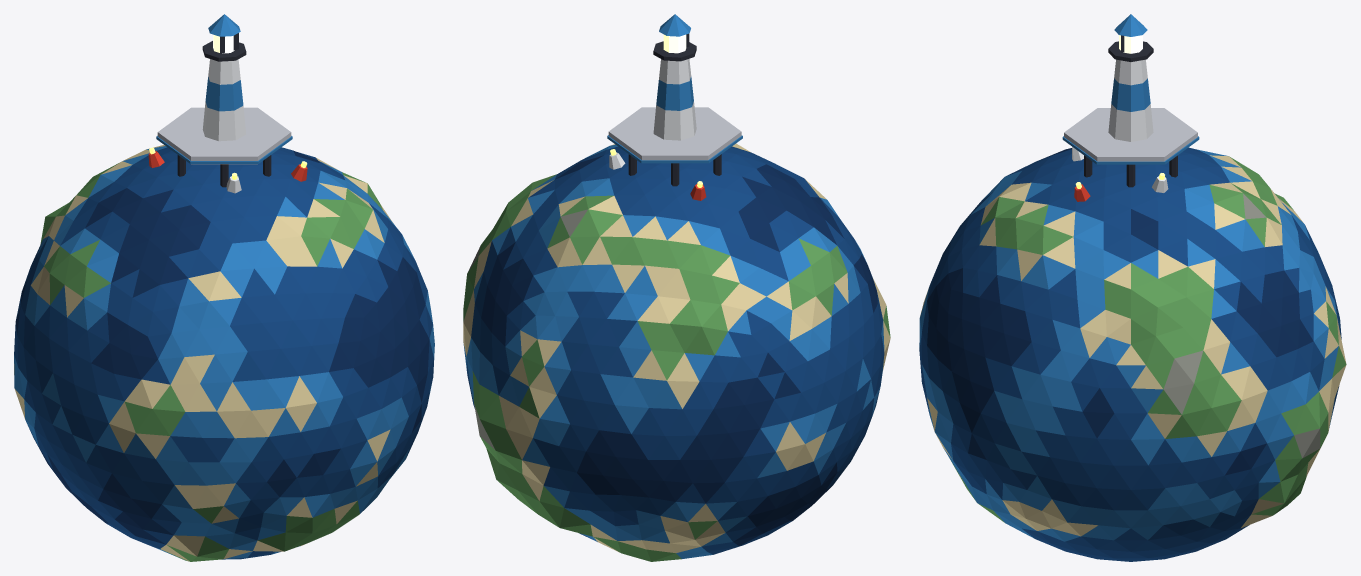
The model's file is planet-ocean.glb.
3 renders of one model, left to right at view 1: azimuth 30°, elevation 25°; view 2: azimuth 150°, elevation 25°; view 3: azimuth 270°, elevation 25°, orthographic.
Parts seen in each view (by area): view 1: Planet, Lighthouse, LampHousing, Buoys; view 2: Planet, Lighthouse, LampHousing; view 3: Planet, Lighthouse, LampHousing, Buoys.
Part boxes in pixels (x1,y1,x2,y2): Planet: (14,145,434,561); Lighthouse: (156,41,292,187); LampHousing: (208,14,240,53); Buoys: (148,147,307,193); Planet: (463,143,890,561); Lighthouse: (607,41,742,186); LampHousing: (659,14,690,53); Planet: (919,147,1346,561); Lighthouse: (1062,41,1199,187); LampHousing: (1114,14,1147,53); Buoys: (1072,147,1168,201).
Size of the model in its own units: 6.04 by 8.26 by 6.06.
